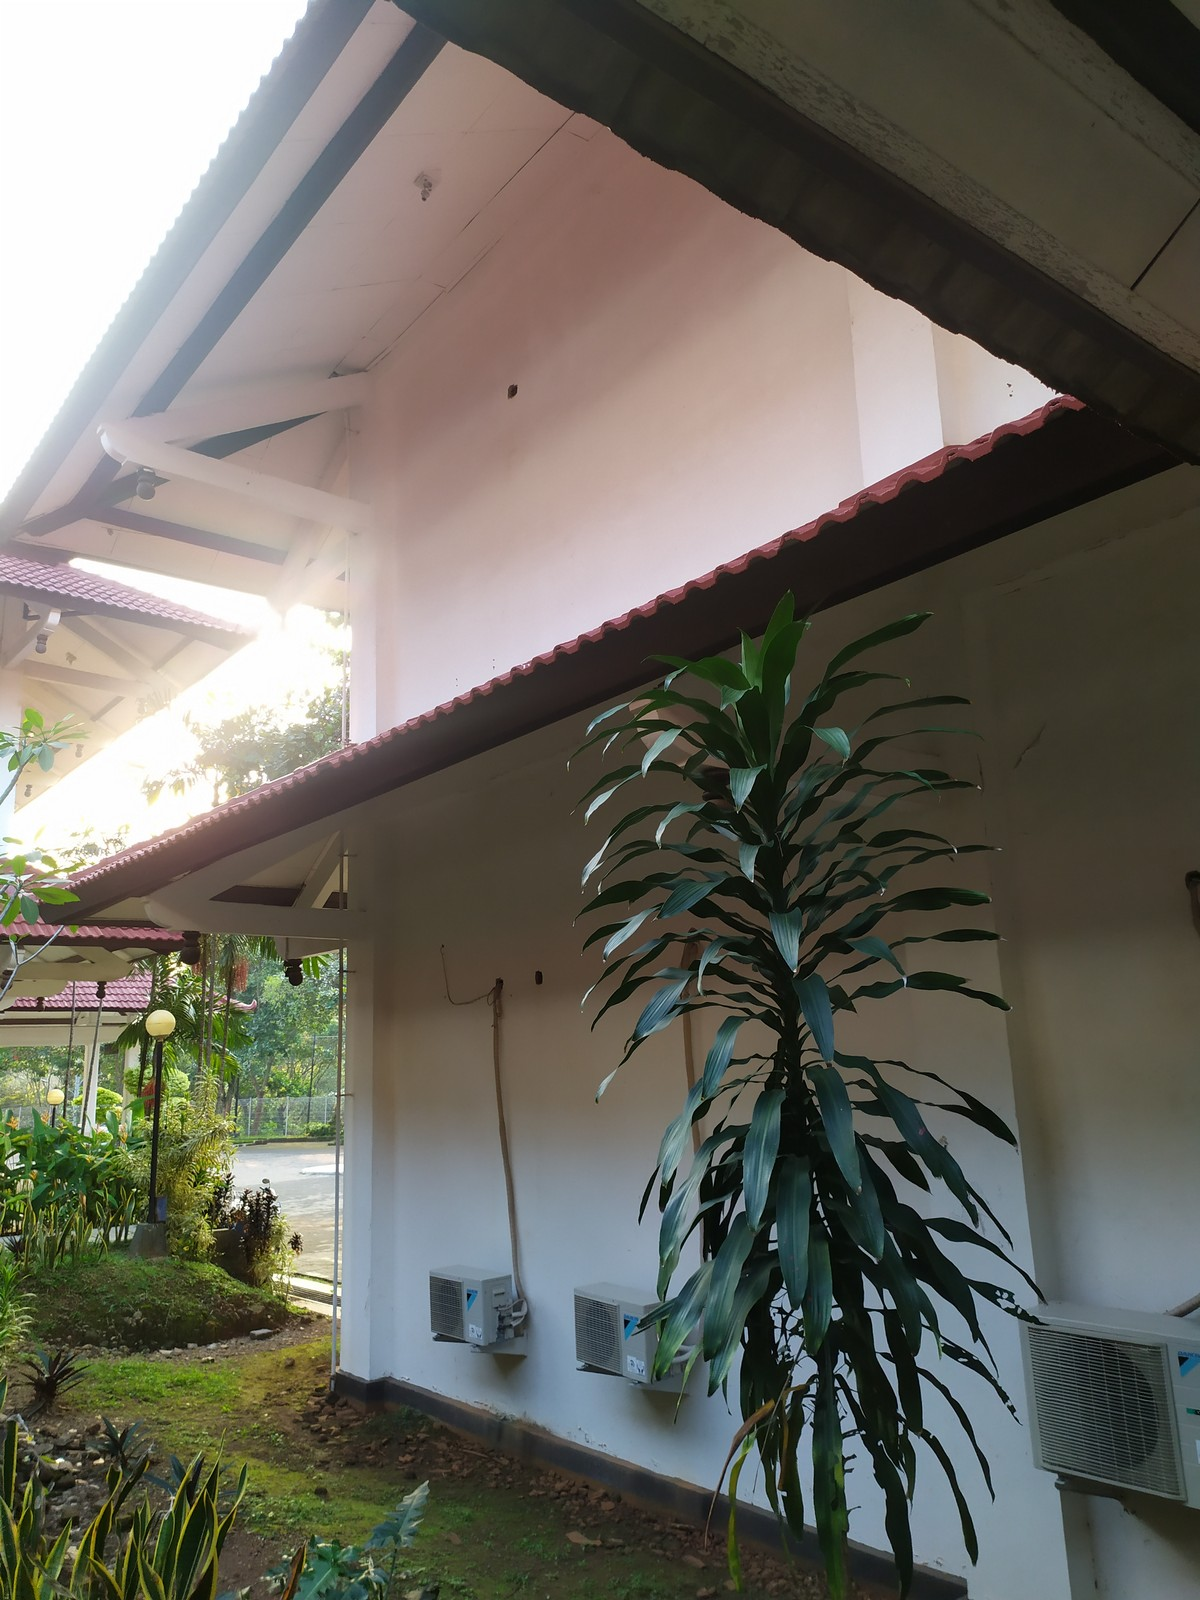concrete beam: (170, 459, 384, 546)
concrete column: (337, 842, 406, 1386), (342, 365, 405, 743)
